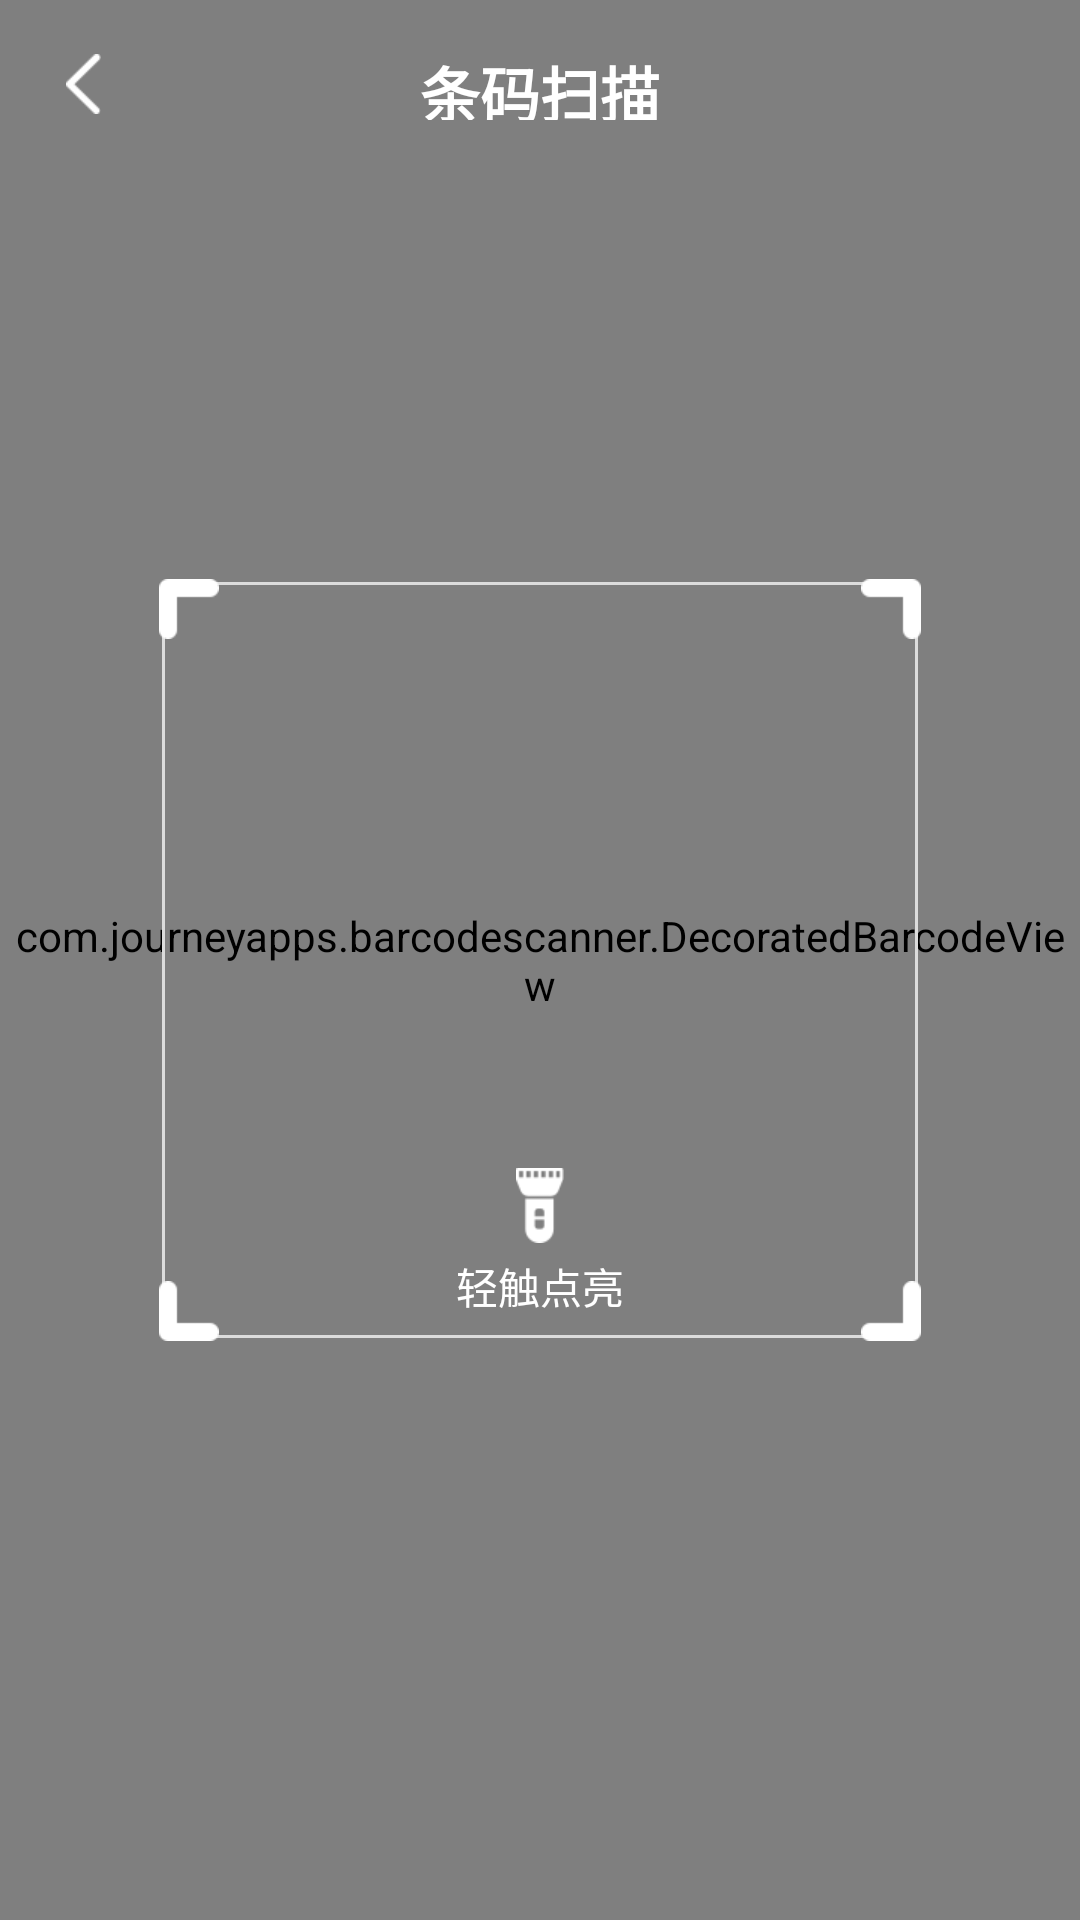

Icons on this 1080 × 1920 Android screen, each with the point to tap as [x,y]:
back: [83,84]
corner: [189,609], [891,609], [189,1311], [891,1311]
